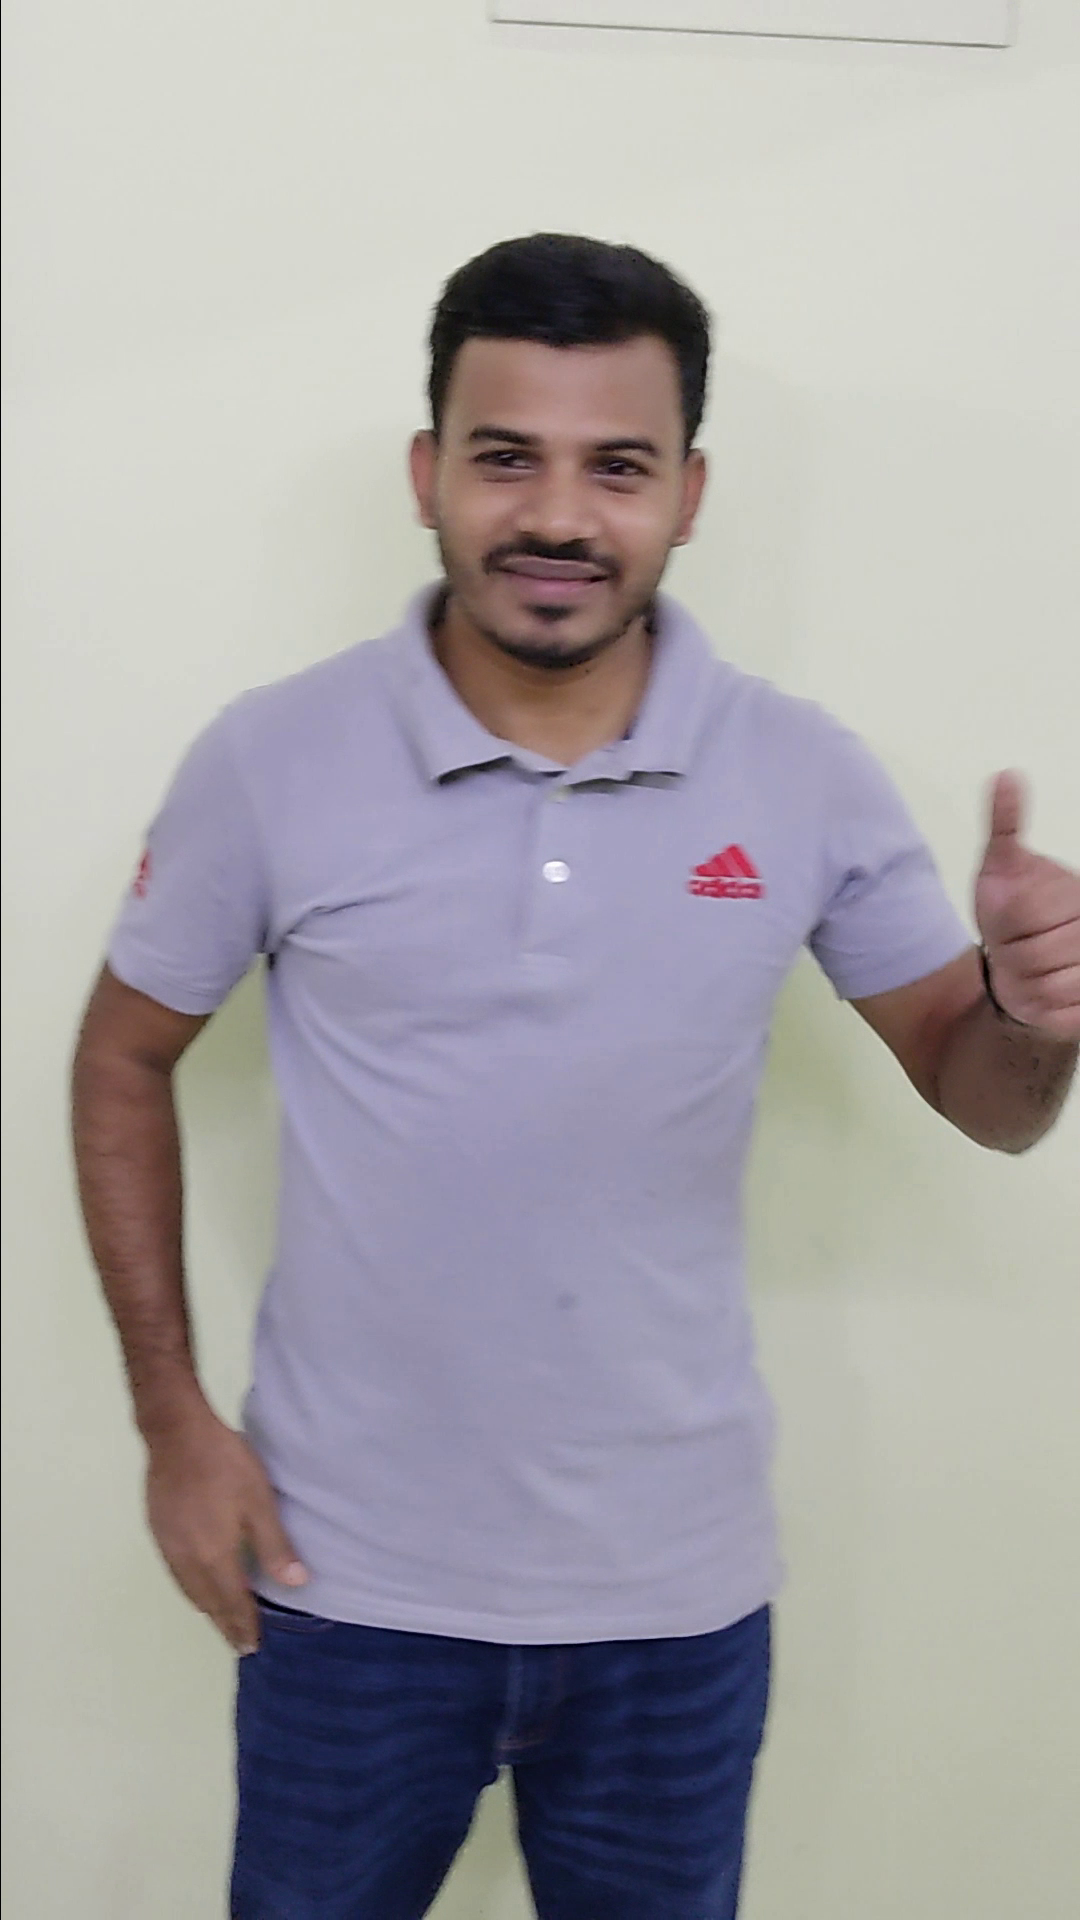Like: (965, 749, 1080, 1058)
None: (109, 1377, 330, 1684)
